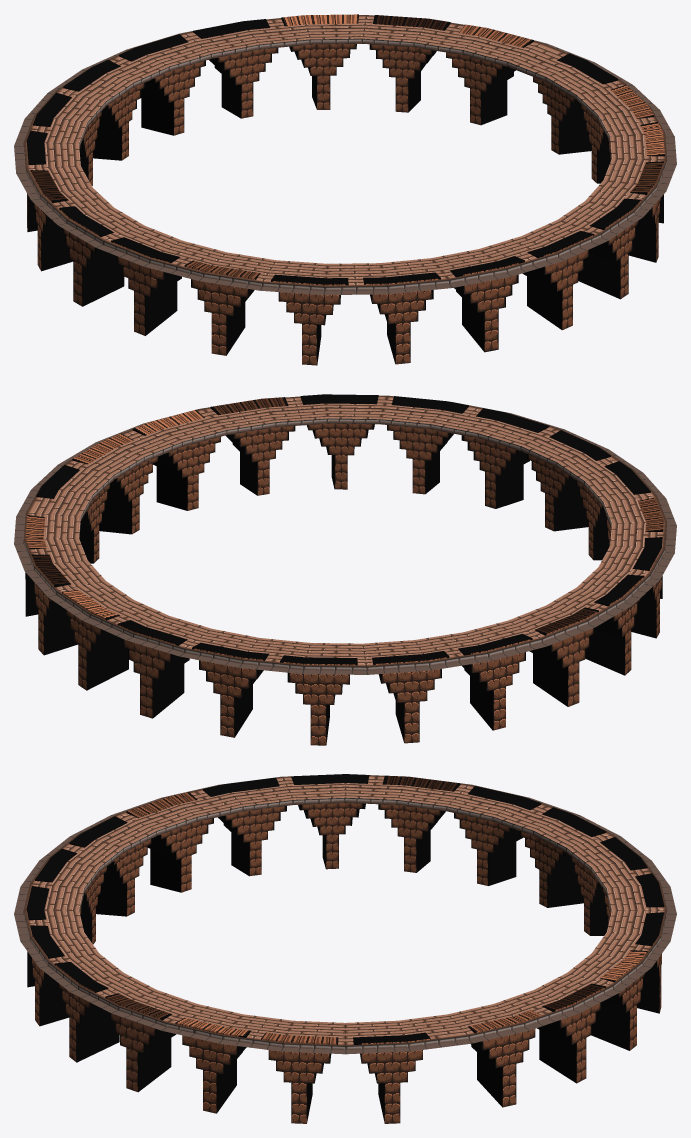
File: Colosseum.fbx
3 renders of one model, top to bottom at view 1: azimuth 30°, elevation 25°; view 2: azimuth 150°, elevation 25°; view 3: azimuth 270°, elevation 25°, orthographic.
Visible parts, largest first — view 1: Circle.001, Circle, Circle.002; view 2: Circle.001, Circle, Circle.002; view 3: Circle.001, Circle, Circle.002.
Part boxes in pixels (<box>): Circle.001: <box>26,14,664,365</box>; Circle: <box>14,15,676,295</box>; Circle.002: <box>23,15,667,290</box>; Circle.001: <box>25,394,663,745</box>; Circle: <box>14,395,676,674</box>; Circle.002: <box>23,395,667,670</box>; Circle.001: <box>26,774,664,1123</box>; Circle: <box>14,775,676,1054</box>; Circle.002: <box>23,775,667,1049</box>.
Size of the model in its own units: 27259 by 3710 by 27259.
